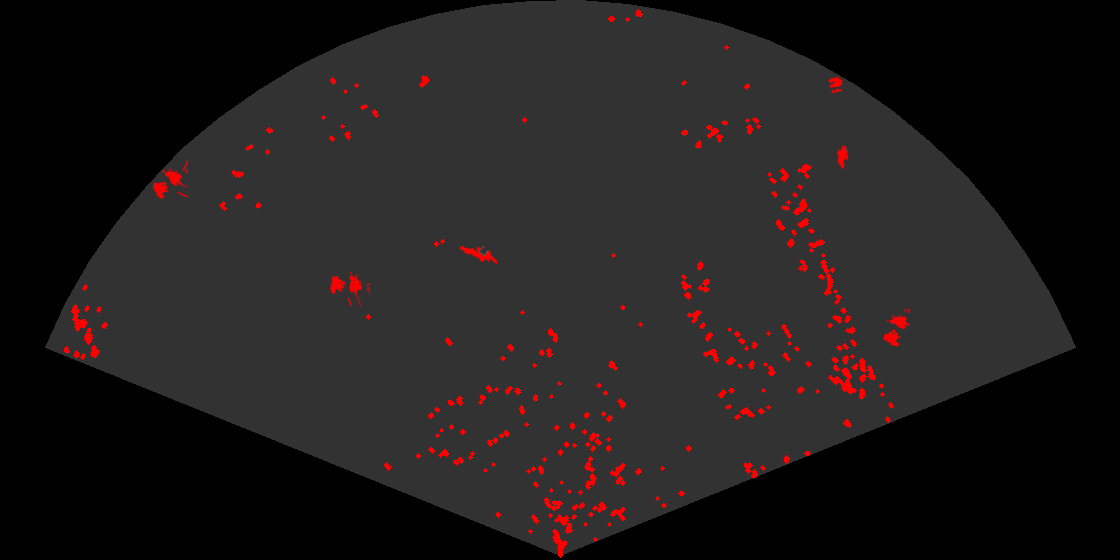AUV: (835, 144, 850, 170)
ball: (827, 75, 844, 95)
cage: (151, 158, 188, 201), (328, 270, 370, 306), (881, 309, 910, 348)
frogman: (458, 244, 497, 266)
